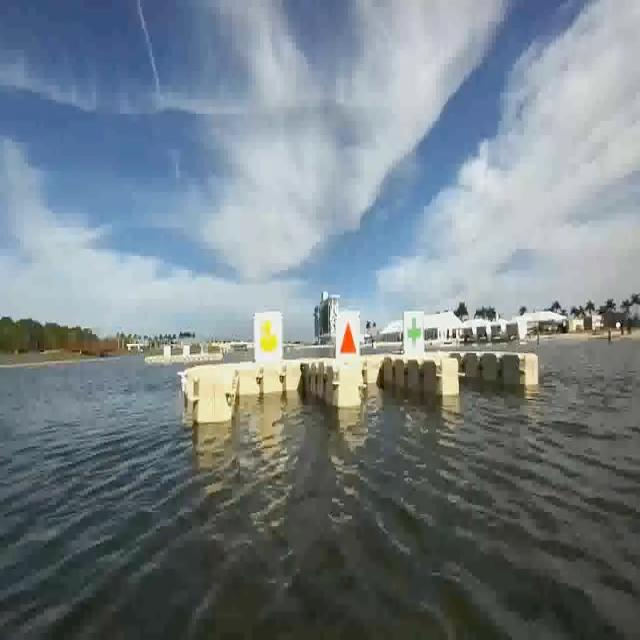blue-cross: (402, 312, 424, 351)
red-dot: (338, 312, 362, 354)
yellow-duck: (257, 313, 284, 358)
